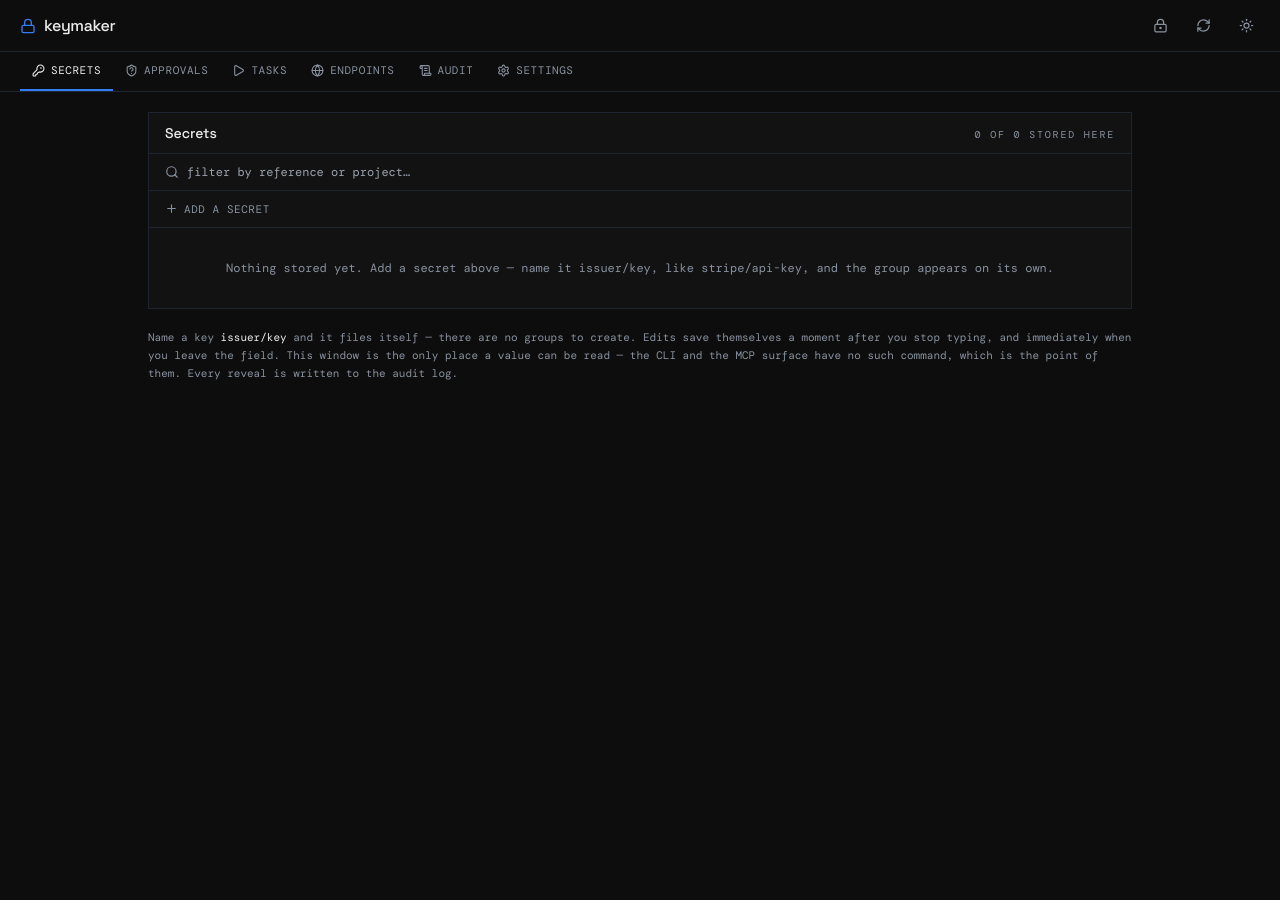
Test case: unlocks the vault from settings once it exists
Click the button "Settings" at (535, 71), box [485, 52, 586, 90]
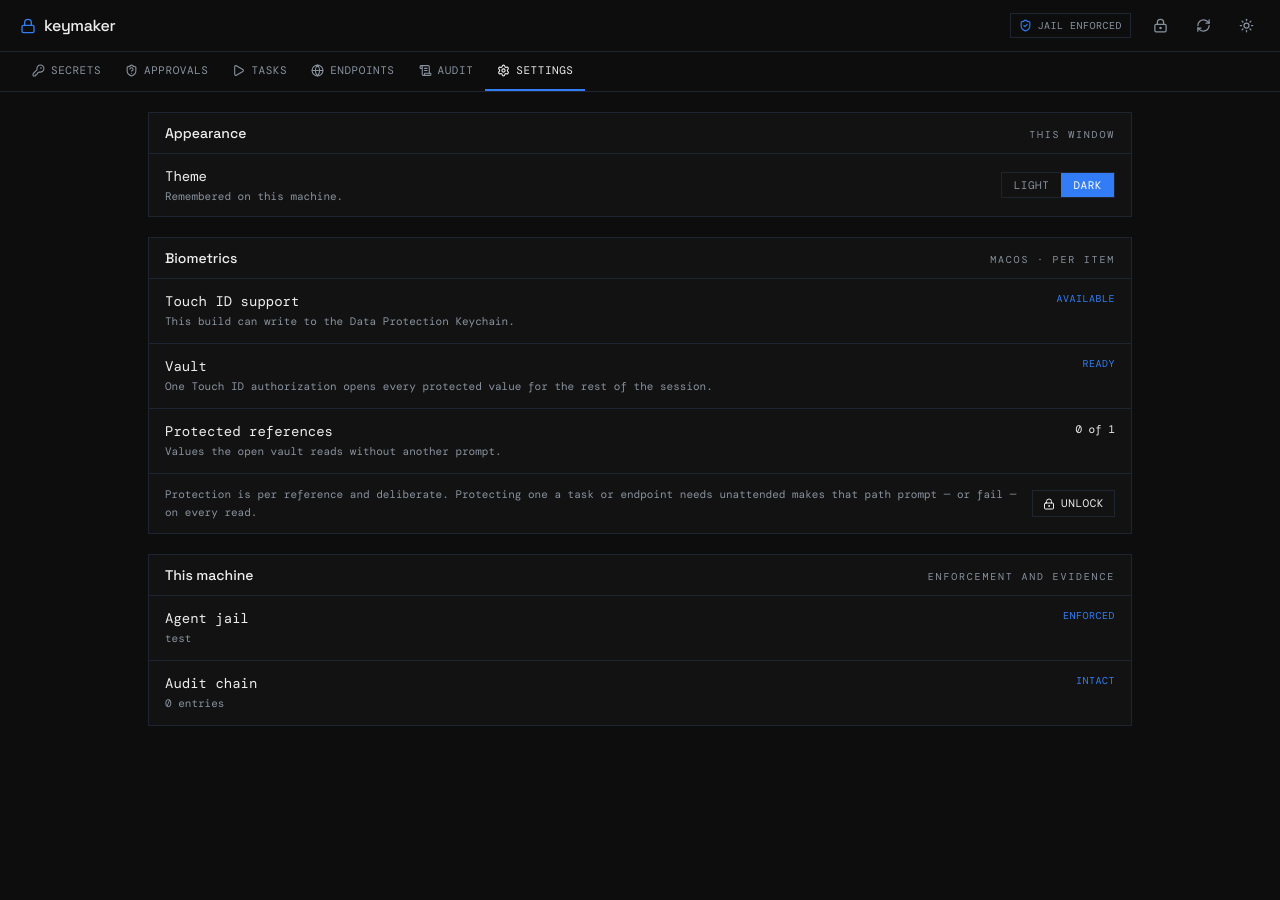
Click the button "unlock" at (1074, 504), box [1032, 490, 1115, 517]
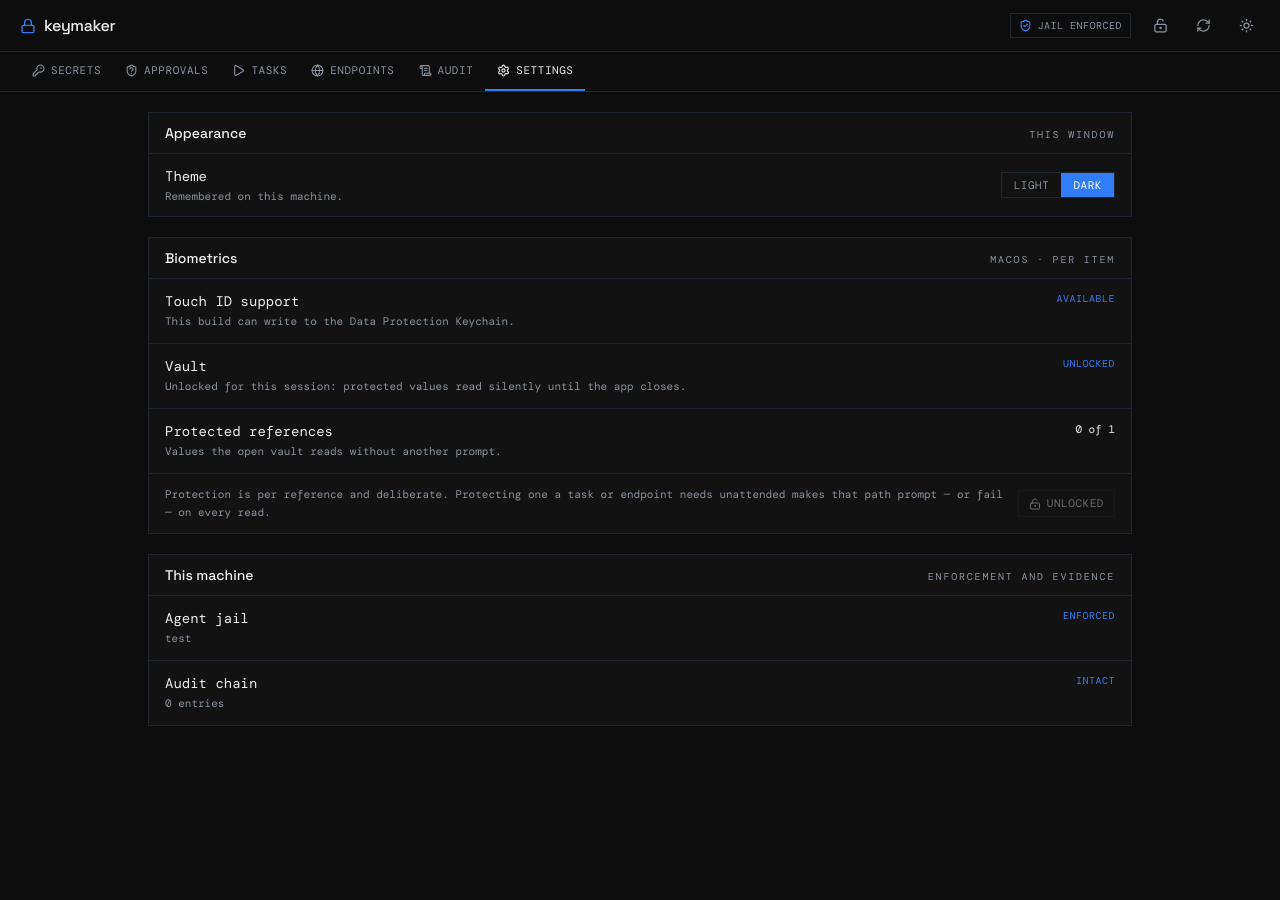
Now the button "unlocked" is shown, box [1018, 490, 1115, 517]
